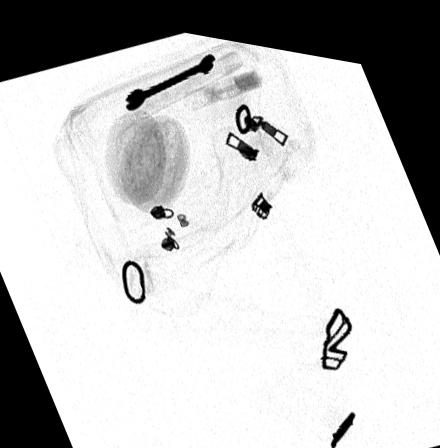Wrench: (123, 42, 218, 107)
